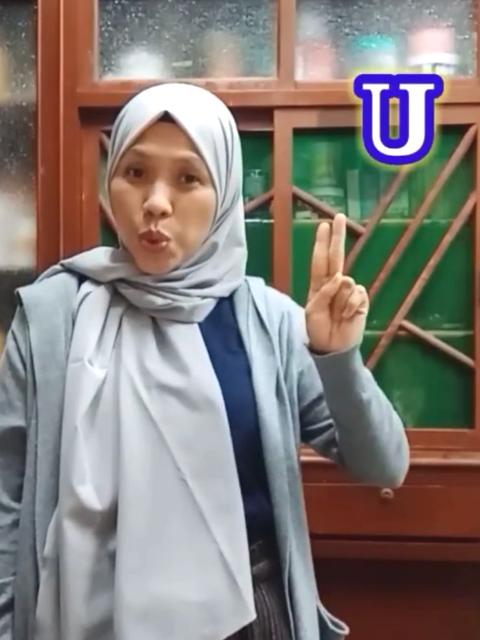U: (292, 205, 374, 359)
